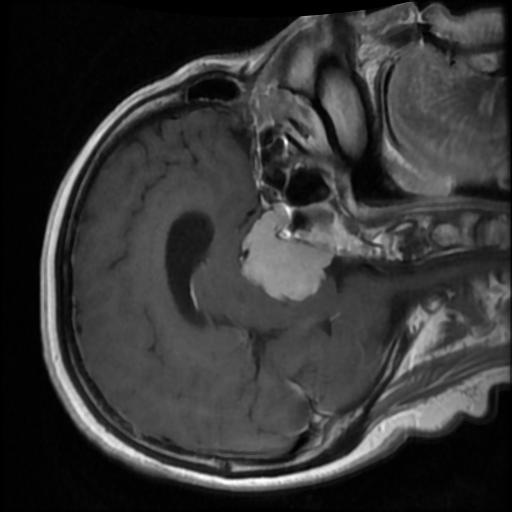meningioma: (241, 207, 331, 303)
